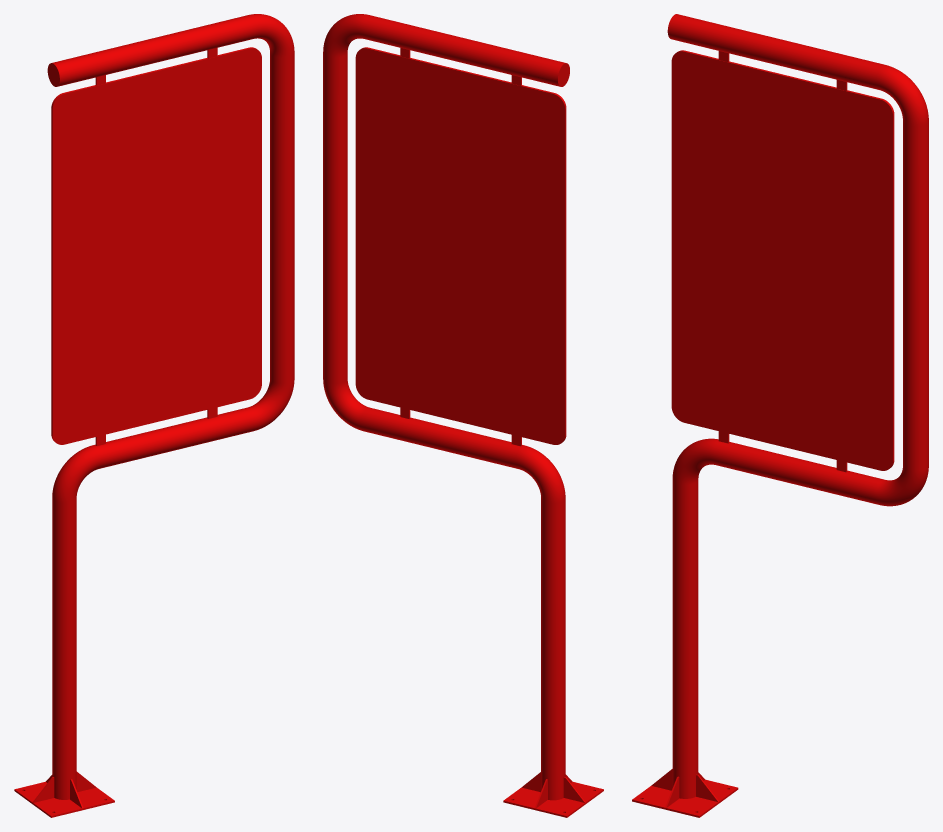
File: sign.glb
The picture shows the model from 3 angles, left to right: view 1: azimuth 30°, elevation 25°; view 2: azimuth 150°, elevation 25°; view 3: azimuth 330°, elevation 25°; orthographic projection. The views are drawn at different scales.
Visible parts, largest first — view 1: Geom3D; view 2: Geom3D; view 3: Geom3D.
Part boxes in pixels (x1,y1,x2,y2): Geom3D: (14,14,294,817); Geom3D: (323,14,603,817); Geom3D: (632,14,928,817).
Bounding box in the file's own units: 0.932 × 2.52 × 0.228.
